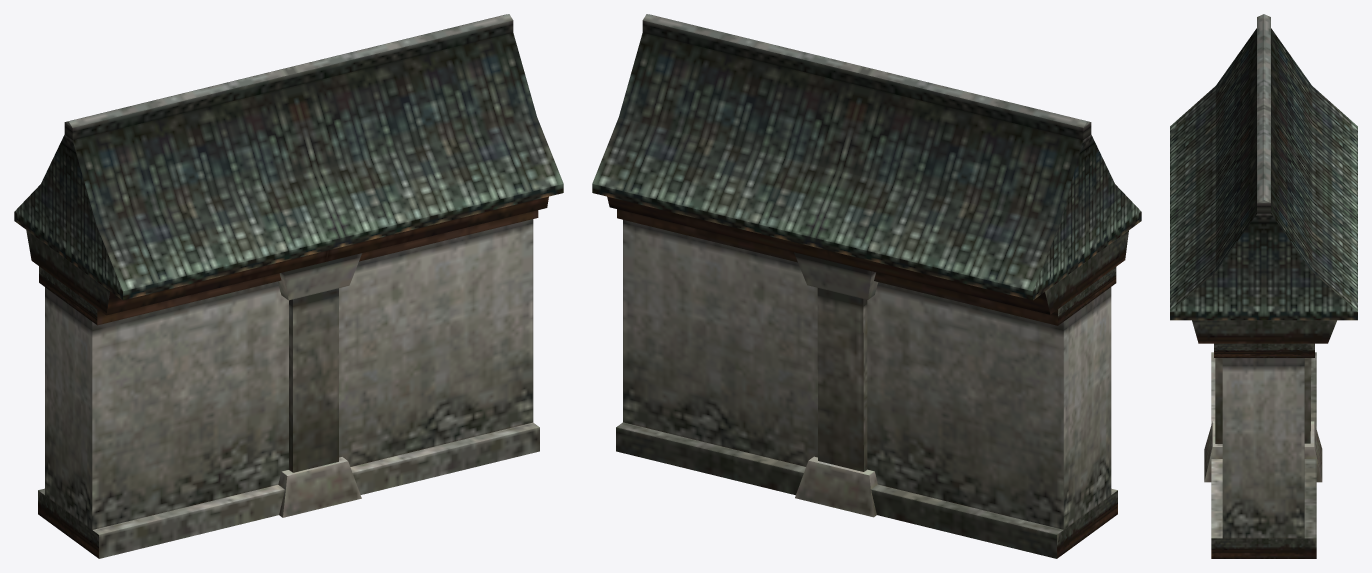
File: c1-038-wall-lin.glb
The picture shows the model from 3 angles, left to right: view 1: azimuth 30°, elevation 25°; view 2: azimuth 150°, elevation 25°; view 3: azimuth 270°, elevation 25°; orthographic projection. The views are drawn at different scales.
Parts seen in each view (by area): view 1: b1-038-wall-lin; view 2: b1-038-wall-lin; view 3: b1-038-wall-lin.
Boxes of the visible parts, box(x1,y1,x2,y2) form: b1-038-wall-lin: box(14, 14, 563, 558); b1-038-wall-lin: box(592, 14, 1141, 558); b1-038-wall-lin: box(1170, 14, 1357, 558).
Size of the model in its own units: 5 by 4.5 by 2.13.
Materials: 1 (1 with a texture image).
